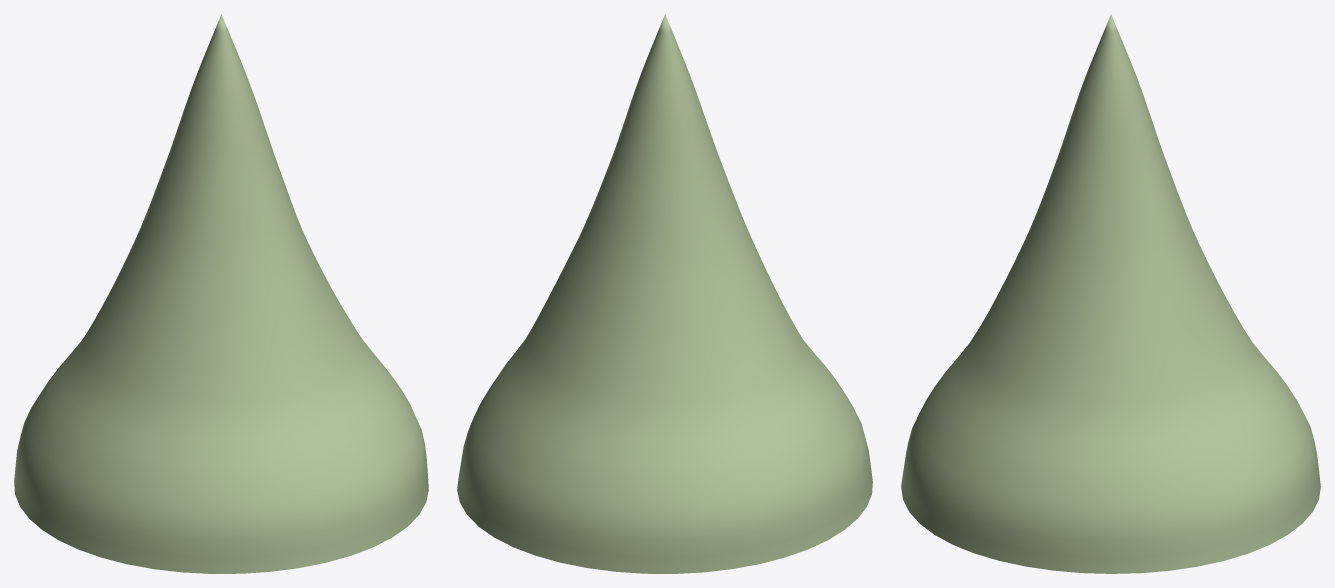
Rendered from NPR_07_2062__MOD__VegetationElements__Topiary__ConeBush__Var-02__.glb.
The picture shows the model from 3 angles, left to right: view 1: azimuth 30°, elevation 25°; view 2: azimuth 150°, elevation 25°; view 3: azimuth 270°, elevation 25°; orthographic projection.
Visible parts, largest first — view 1: NPR_07_2062__MOD__VegetationElements__Topiary__ConeBush__Var; view 2: NPR_07_2062__MOD__VegetationElements__Topiary__ConeBush__Var; view 3: NPR_07_2062__MOD__VegetationElements__Topiary__ConeBush__Var.
Boxes of the visible parts, box(x1,y1,x2,y2) form: NPR_07_2062__MOD__VegetationElements__Topiary__ConeBush__Var: box(14, 14, 428, 573); NPR_07_2062__MOD__VegetationElements__Topiary__ConeBush__Var: box(457, 14, 872, 573); NPR_07_2062__MOD__VegetationElements__Topiary__ConeBush__Var: box(901, 14, 1320, 573).
Bounding box in the file's own units: 1.23 × 1.55 × 1.25.
